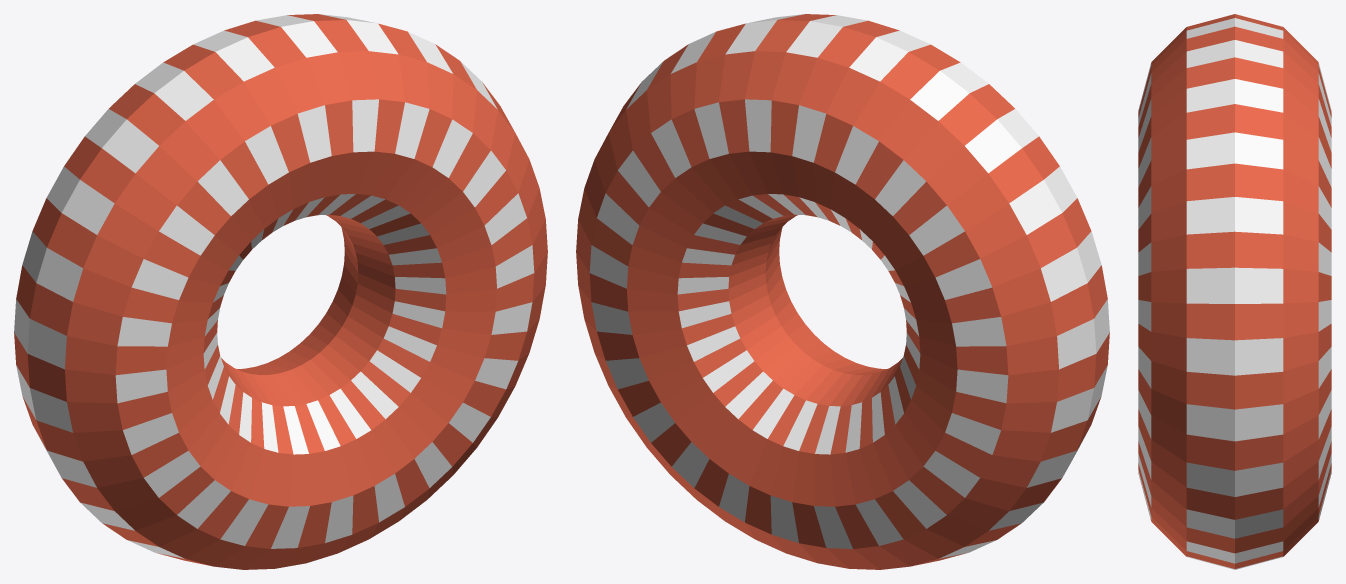
3 views of the same model, side by side, from view 1: azimuth 30°, elevation 25°; view 2: azimuth 150°, elevation 25°; view 3: azimuth 270°, elevation 25° (orthographic). The views are drawn at different scales.
Parts seen in each view (by area): view 1: Torus; view 2: Torus; view 3: Torus.
Part boxes in pixels (box(x1,y1,x2,y2)): Torus: box(14, 14, 547, 569); Torus: box(576, 14, 1109, 569); Torus: box(1138, 14, 1331, 569).
Bounding box in the file's own units: 108 × 108 × 37.47.
